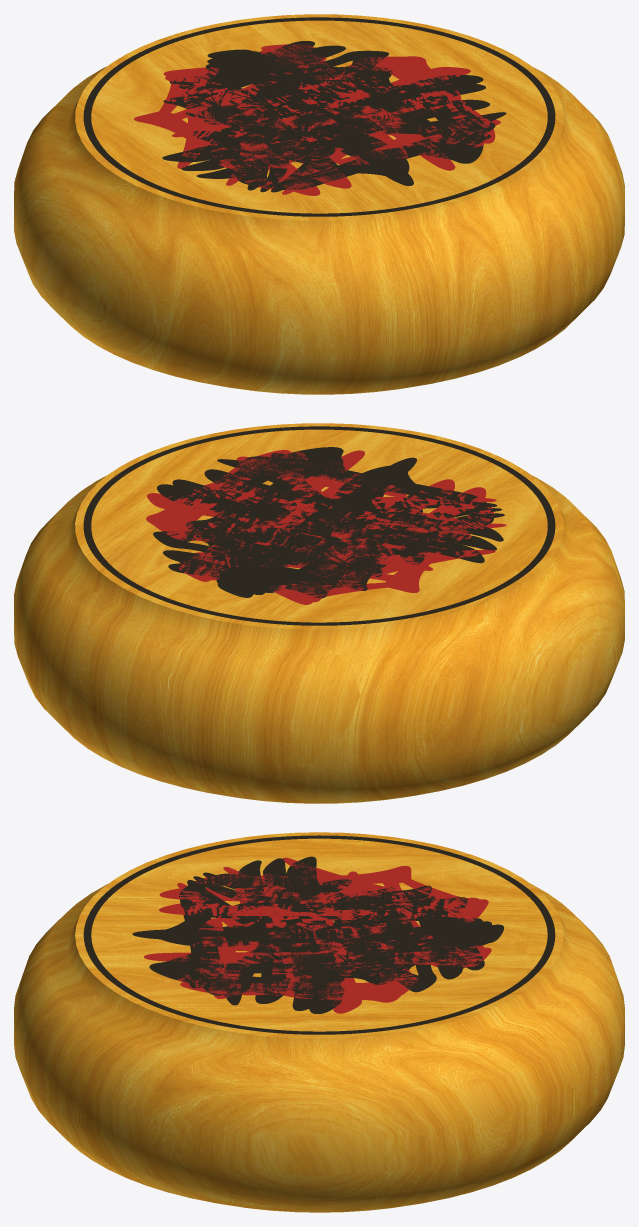
File: chess_pieces.glb
3 views of the same model, one above another, from view 1: azimuth 30°, elevation 25°; view 2: azimuth 150°, elevation 25°; view 3: azimuth 270°, elevation 25° (orthographic).
Visible parts, largest first — view 1: Piece_Black_Advisor, Piece_Black_Elephant, Piece_Black_General, Piece_Red_General, Piece_Black_Cannon, Piece_Black_Horse, Piece_Black_Rook, Piece_Red_Advisor, Piece_Red_Elephant, Piece_Black_Soldier, Piece_Red_Soldier; view 2: Piece_Black_Advisor, Piece_Black_Elephant, Piece_Black_General, Piece_Red_General, Piece_Black_Cannon, Piece_Black_Rook, Piece_Black_Horse, Piece_Black_Soldier, Piece_Red_Advisor, Piece_Red_Elephant, Piece_Red_Soldier; view 3: Piece_Black_Advisor, Piece_Black_General, Piece_Red_Advisor, Piece_Black_Horse, Piece_Black_Elephant, Piece_Black_Cannon, Piece_Red_Elephant, Piece_Red_General, Piece_Black_Rook, Piece_Black_Soldier, Piece_Red_Soldier.
Boxes of the visible parts, x1,y1,x2,y2 form: Piece_Black_Advisor: [14, 14, 624, 394]; Piece_Black_Elephant: [185, 56, 506, 192]; Piece_Black_General: [163, 47, 458, 190]; Piece_Red_General: [134, 44, 461, 189]; Piece_Black_Cannon: [185, 65, 495, 192]; Piece_Black_Horse: [169, 41, 483, 186]; Piece_Black_Rook: [192, 49, 489, 185]; Piece_Red_Advisor: [165, 46, 500, 195]; Piece_Red_Elephant: [172, 56, 495, 188]; Piece_Black_Soldier: [181, 45, 485, 185]; Piece_Red_Soldier: [207, 54, 484, 194]; Piece_Black_Advisor: [14, 423, 624, 803]; Piece_Black_Elephant: [203, 459, 497, 592]; Piece_Black_General: [153, 456, 504, 590]; Piece_Red_General: [146, 450, 493, 604]; Piece_Black_Cannon: [192, 456, 502, 589]; Piece_Black_Rook: [180, 458, 503, 597]; Piece_Black_Horse: [168, 447, 493, 598]; Piece_Black_Soldier: [163, 457, 496, 595]; Piece_Red_Advisor: [147, 456, 495, 602]; Piece_Red_Elephant: [154, 450, 506, 601]; Piece_Red_Soldier: [194, 452, 496, 577]; Piece_Black_Advisor: [14, 832, 624, 1212]; Piece_Black_General: [169, 869, 470, 999]; Piece_Red_Advisor: [159, 857, 484, 1013]; Piece_Black_Horse: [149, 873, 484, 995]; Piece_Black_Elephant: [153, 880, 482, 1005]; Piece_Black_Cannon: [193, 876, 446, 995]; Piece_Red_Elephant: [159, 867, 481, 996]; Piece_Red_General: [144, 866, 491, 1002]; Piece_Black_Rook: [134, 860, 503, 1003]; Piece_Black_Soldier: [132, 858, 499, 1010]; Piece_Red_Soldier: [177, 873, 463, 995].
Bounding box in the file's own units: 0.032 × 0.01 × 0.032.
Materials: 4 (2 with a texture image).
